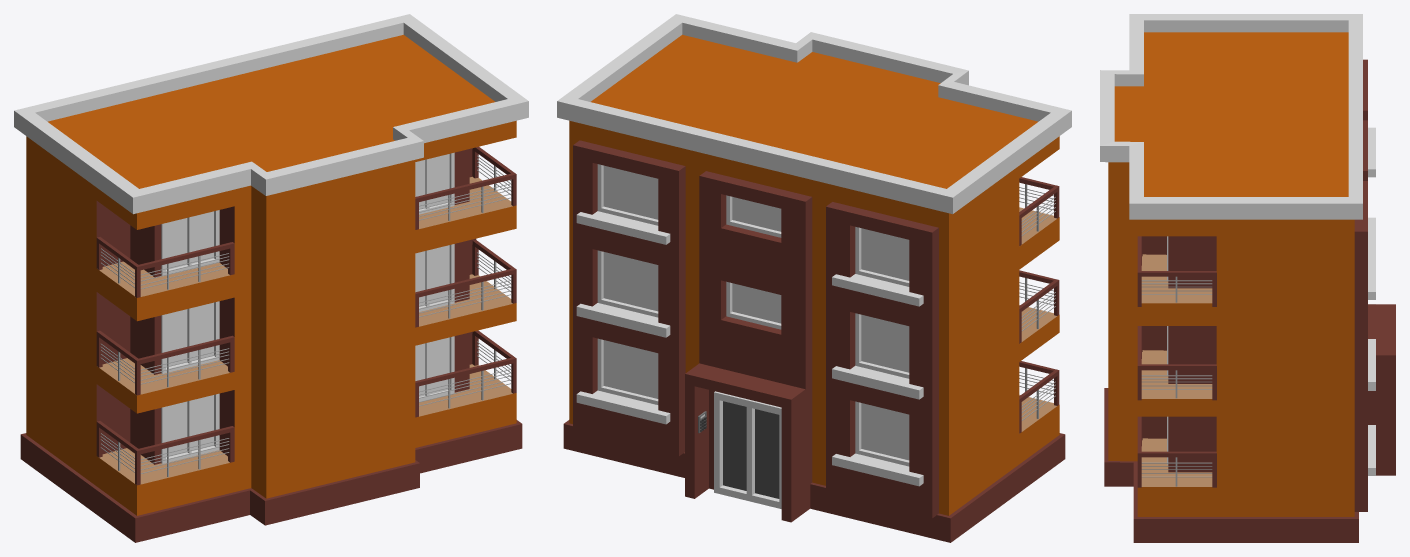
Rendered from Building C Orange.fbx.
The picture shows the model from 3 angles, left to right: view 1: azimuth 30°, elevation 25°; view 2: azimuth 150°, elevation 25°; view 3: azimuth 270°, elevation 25°; orthographic projection.
Parts seen in each view (by area): view 1: Building C Orange.001; view 2: Building C Orange.001; view 3: Building C Orange.001.
Boxes of the visible parts, x1,y1,x2,y2 form: Building C Orange.001: (14, 14, 528, 542); Building C Orange.001: (557, 14, 1071, 542); Building C Orange.001: (1100, 14, 1395, 542).
Bounding box in the file's own units: 1257 × 829 × 1057.
